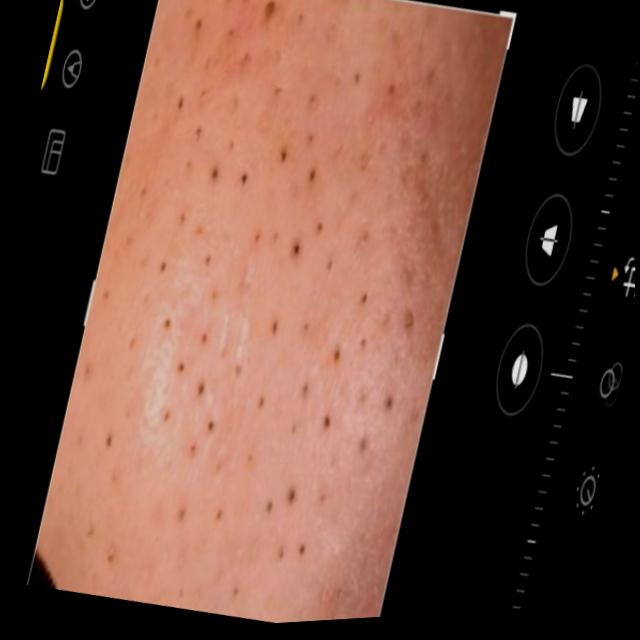blackhead: (97, 21, 405, 620)
